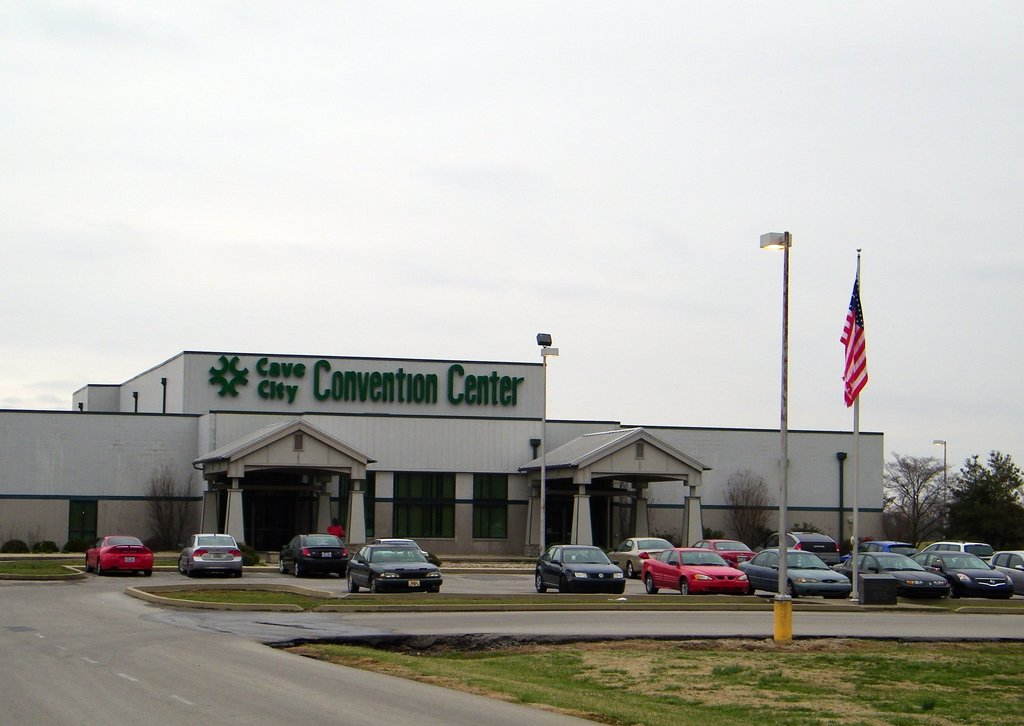mobil: (640, 538, 736, 604), (533, 533, 624, 595), (339, 541, 447, 591), (171, 531, 258, 581), (81, 527, 159, 578), (276, 534, 351, 580)
